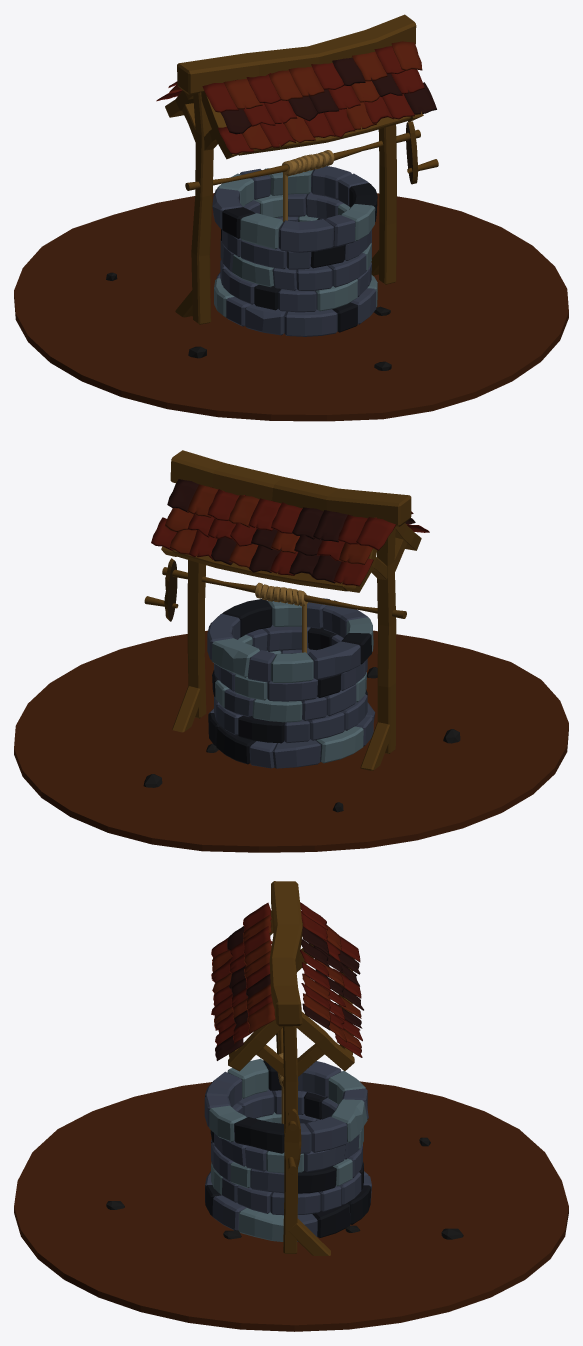
File: low-poly-well.obj
The picture shows the model from 3 angles, top to bottom: view 1: azimuth 30°, elevation 25°; view 2: azimuth 150°, elevation 25°; view 3: azimuth 270°, elevation 25°; orthographic projection.
Visible parts, largest first — view 1: Plane.139_Plane.268, Plane.150_Plane.279, Plane.149_Plane.278, Plane.148_Plane.277, Plane.012_Plane.142, Plane.038_Plane.168, Plane.010_Plane.140, Plane.161_Plane.290, Plane.036_Plane.166, Plane.160_Plane.289, Plane.018_Plane.148, Plane.035_Plane.165 (+41 smaller); view 2: Plane.139_Plane.268, Plane.084_Plane.213, Plane.150_Plane.279, Plane.149_Plane.278, Plane.148_Plane.277, Plane.016_Plane.146, Plane.159_Plane.288, Plane.020_Plane.150, Plane.014_Plane.144, Plane.041_Plane.170, Plane.008_Plane.138, Plane.043_Plane.172 (+21 smaller); view 3: Plane.139_Plane.268, Plane.084_Plane.213, Plane.150_Plane.279, Plane.148_Plane.277, Plane.008_Plane.138, Plane.051_Plane.180, Plane.157_Plane.286, Plane.018_Plane.148, Plane.158_Plane.287, Plane.016_Plane.146, Plane.010_Plane.140, Plane.020_Plane.150 (+15 smaller).
Part boxes in pixels (x1,y1,x2,y2): Plane.139_Plane.268: (14,193,568,421); Plane.150_Plane.279: (177,14,416,94); Plane.149_Plane.278: (191,92,213,324); Plane.148_Plane.277: (378,124,396,284); Plane.012_Plane.142: (279,219,334,252); Plane.038_Plane.168: (284,309,337,336); Plane.010_Plane.140: (240,213,283,249); Plane.161_Plane.290: (185,129,420,190); Plane.036_Plane.166: (245,304,286,335); Plane.160_Plane.289: (238,116,410,155); Plane.018_Plane.148: (311,166,351,199); Plane.035_Plane.165: (241,239,286,269); Plane.139_Plane.268: (14,630,568,852); Plane.084_Plane.213: (151,479,396,586); Plane.150_Plane.279: (170,450,411,526); Plane.149_Plane.278: (377,526,396,753); Plane.148_Plane.277: (187,560,206,718); Plane.016_Plane.146: (308,641,360,679); Plane.159_Plane.288: (173,550,347,591); Plane.020_Plane.150: (211,638,259,677); Plane.014_Plane.144: (271,652,313,682); Plane.041_Plane.170: (272,739,321,768); Plane.008_Plane.138: (222,599,271,637); Plane.043_Plane.172: (316,726,363,763); Plane.139_Plane.268: (14,1081,568,1331); Plane.084_Plane.213: (300,902,363,1057); Plane.150_Plane.279: (269,881,302,1026); Plane.148_Plane.277: (283,1026,298,1253); Plane.008_Plane.138: (234,1117,284,1153); Plane.051_Plane.180: (238,1208,283,1241); Plane.157_Plane.286: (295,1011,354,1070); Plane.018_Plane.148: (306,1116,346,1152); Plane.158_Plane.287: (228,1020,283,1071); Plane.016_Plane.146: (297,1058,341,1097); Plane.010_Plane.140: (227,1058,268,1098); Plane.020_Plane.150: (331,1099,367,1142).
Bounding box in the file's own units: 47.23 × 26.13 × 46.45.
